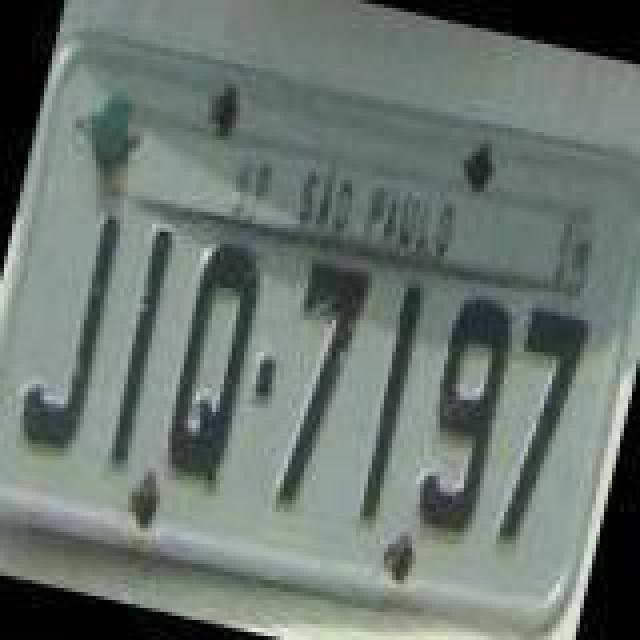1: (96, 226, 184, 478), (350, 278, 434, 530)
7: (250, 250, 374, 518), (478, 298, 594, 550)
9: (404, 288, 524, 544)
J: (12, 200, 132, 456)
Q: (150, 236, 274, 500)
